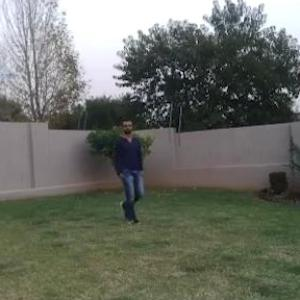follow: (116, 120, 146, 222)
